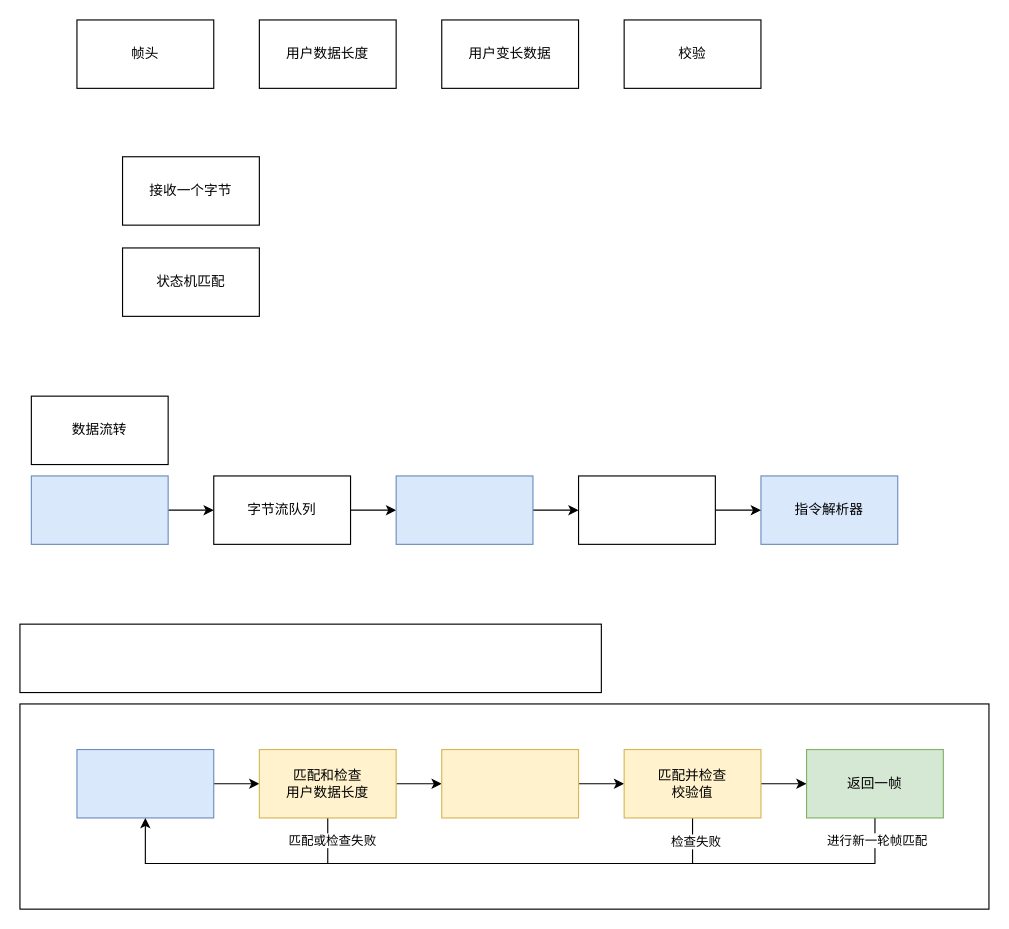
This 1009x929 diagram has some shape labels left out. Each missing label, with the box of its shape:
匹配帧头: (76, 748, 214, 818)
字节流数据源: (30, 475, 168, 544)
帧解析器: (395, 475, 533, 544)
帧解析器 - 逐字节流式状态机 （uint8_t data， uint8_t* frame_buf， uint32_t buf_size）: (19, 623, 601, 693)
帧队列: (577, 475, 715, 544)
接收若干 用户变长数据: (441, 748, 579, 818)
